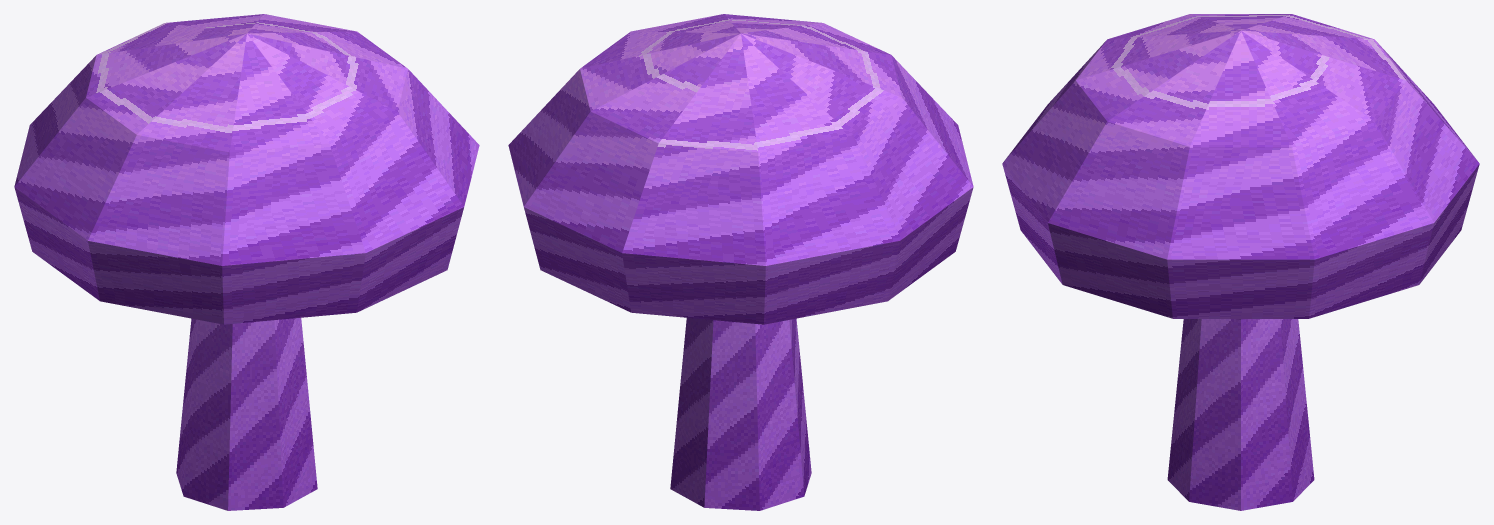
The model's file is ruinas_cogumelo_roxo.glb.
3 views of the same model, side by side, from view 1: azimuth 30°, elevation 25°; view 2: azimuth 150°, elevation 25°; view 3: azimuth 270°, elevation 25° (orthographic).
Parts seen in each view (by area): view 1: ruinas_cogumelo_roxo; view 2: ruinas_cogumelo_roxo; view 3: ruinas_cogumelo_roxo.
Boxes of the visible parts, x1=… form: ruinas_cogumelo_roxo: x1=14, y1=14, x2=479, y2=510; ruinas_cogumelo_roxo: x1=508, y1=14, x2=973, y2=510; ruinas_cogumelo_roxo: x1=1002, y1=14, x2=1479, y2=510.
Bounding box in the file's own units: 0.5935 × 0.648 × 0.624.
1 material, 1 textured.
